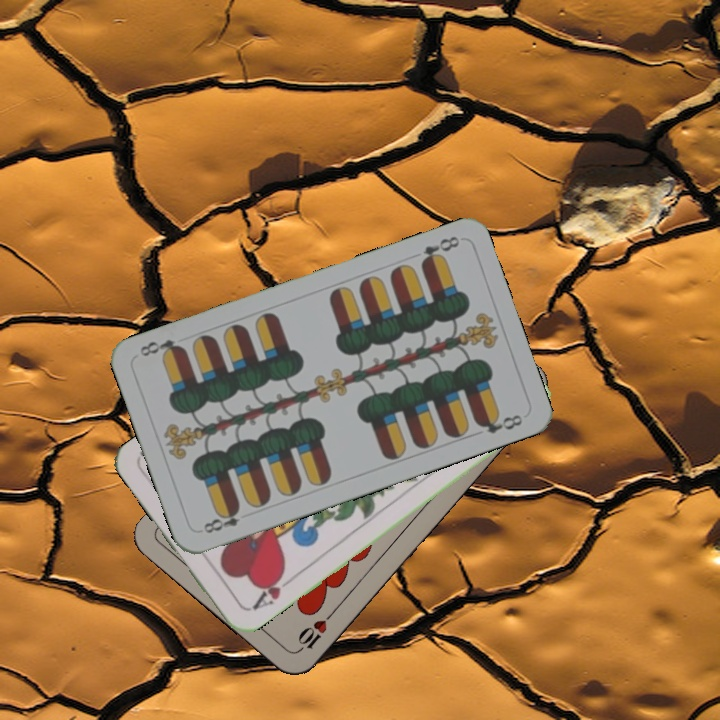E8: (416, 232, 463, 269), (196, 503, 243, 536)
H10: (293, 606, 338, 655)
HA: (245, 567, 297, 613)
